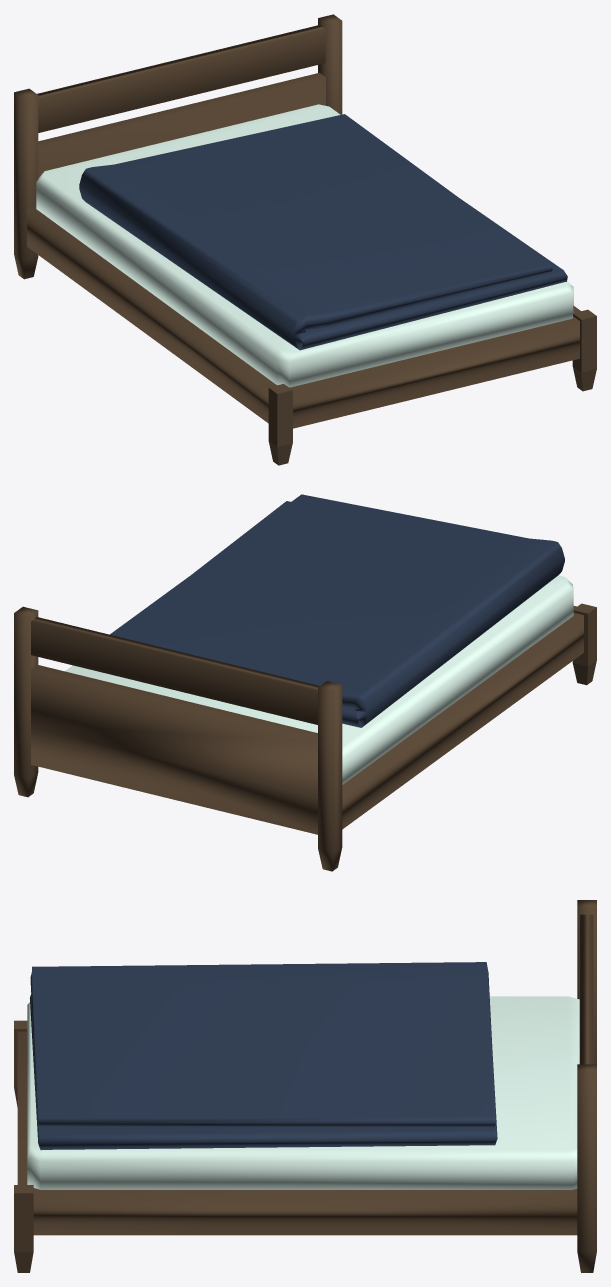
Rendered from Bed_Bedroom_V1.fbx.
3 views of the same model, one above another, from view 1: azimuth 30°, elevation 25°; view 2: azimuth 150°, elevation 25°; view 3: azimuth 270°, elevation 25° (orthographic). The views are drawn at different scales.
Visible parts, largest first — view 1: Cube.007, Cube.004, Cube.002, Cube, Cube.003, Cube.001; view 2: Cube.007, Cube.004, Cube.002, Cube, Cube.003, Cube.001; view 3: Cube.007, Cube.002, Cube.004, Cube.003, Cube.001, Cube.
Part boxes in pixels (left/top/right/bottom): Cube.007: left=79, top=114, right=567, bottom=350; Cube.004: left=27, top=72, right=580, bottom=428; Cube.002: left=36, top=104, right=573, bottom=387; Cube: left=37, top=25, right=325, bottom=132; Cube.003: left=14, top=14, right=342, bottom=279; Cube.001: left=268, top=309, right=596, bottom=465; Cube.007: left=110, top=494, right=564, bottom=727; Cube.004: left=31, top=606, right=583, bottom=834; Cube.002: left=65, top=575, right=573, bottom=784; Cube: left=31, top=617, right=319, bottom=724; Cube.003: left=14, top=606, right=342, bottom=871; Cube.001: left=572, top=603, right=596, bottom=685; Cube.007: left=30, top=962, right=497, bottom=1150; Cube.002: left=27, top=996, right=579, bottom=1189; Cube.004: left=17, top=968, right=593, bottom=1235; Cube.003: left=577, top=900, right=596, bottom=1272; Cube.001: left=14, top=1020, right=33, bottom=1272; Cube: left=580, top=914, right=593, bottom=1064.
Bounding box in the file's own units: 213 × 116 × 304.
